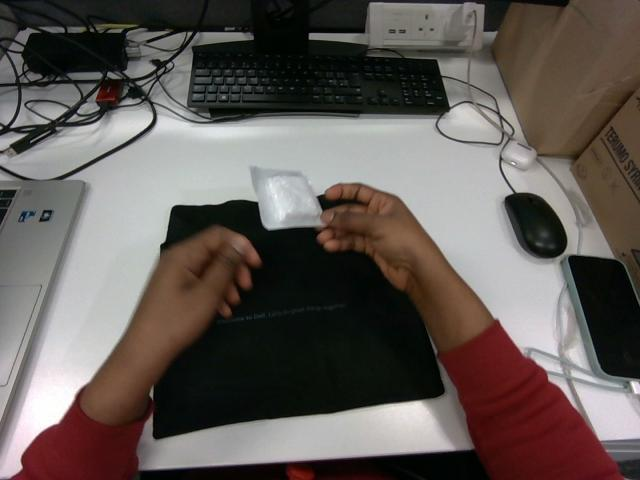gauze: (252, 166, 322, 229)
